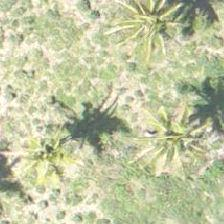Kelapa_Sawit: (0, 108, 90, 198), (135, 95, 223, 186), (106, 0, 196, 69)
